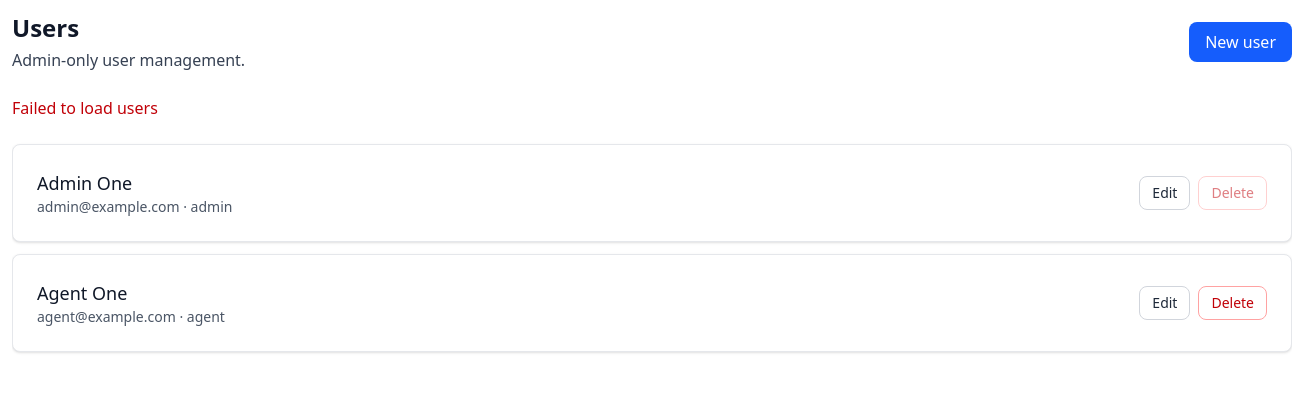
Test: UsersPage › shows store error and failed delete message
Expected: the message reads "Failed to load users", x1=12 y1=97 x2=158 y2=119
What coordinates should you click on to do the following:
click the button "Delete" in the row of "agent@example.com"
I would click on:
 (1233, 303)
Its box is x1=1198 y1=286 x2=1267 y2=320.
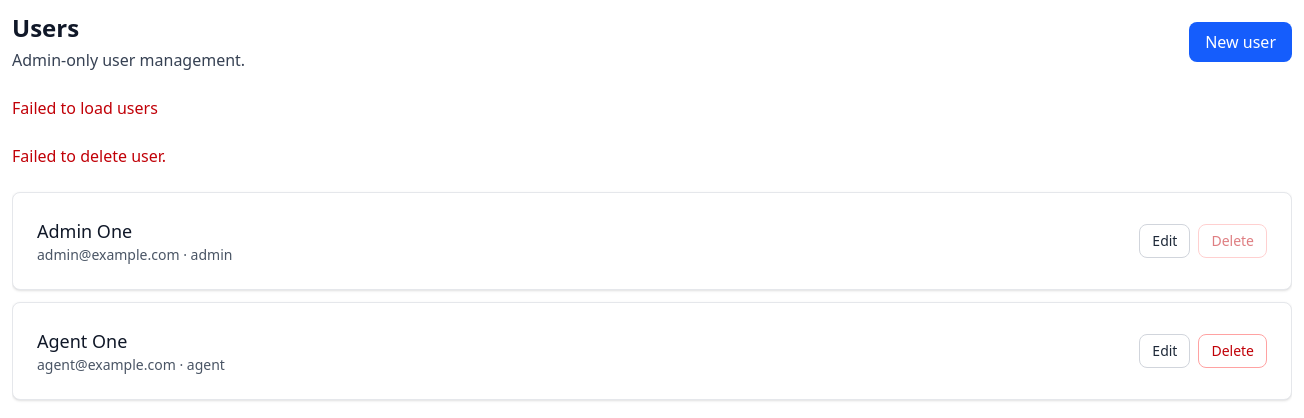
Expected: the text "Failed to delete user." is shown, x1=12 y1=145 x2=166 y2=167
